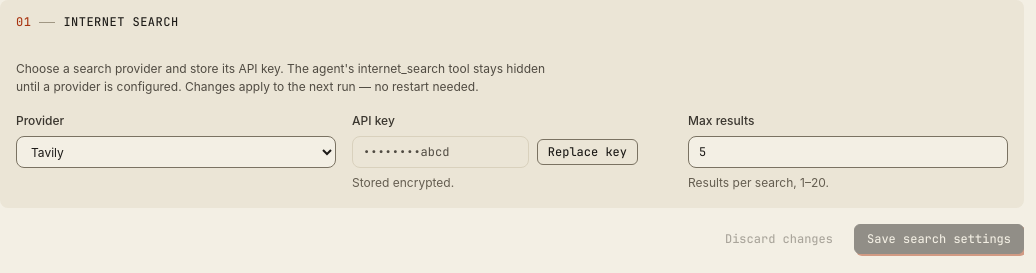
Test: SearchSettings › restores the mask when a replacement is cancelled
The width and height of the screenshot is (1036, 273).
Click the button "Replace key": x=587, y=152 x1=537 y1=139 x2=638 y2=165
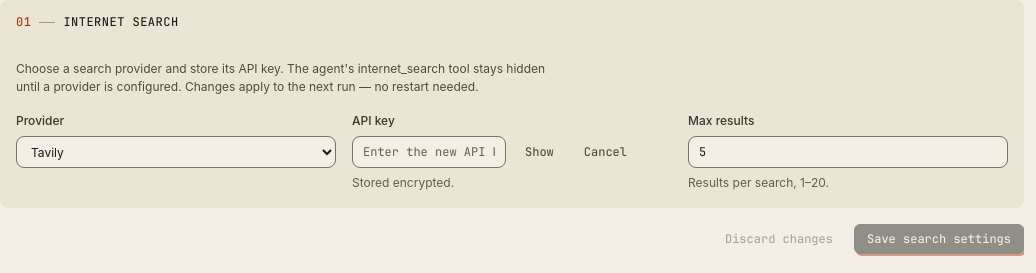
In the password field labelled "API key": x=429, y=152 x1=352 y1=136 x2=506 y2=168, type "typed-but-abandoned"
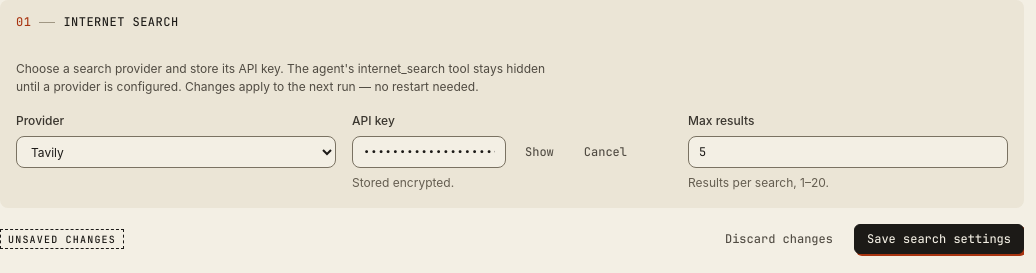
Click the button "Cancel": x=605, y=152 x1=573 y1=139 x2=638 y2=165
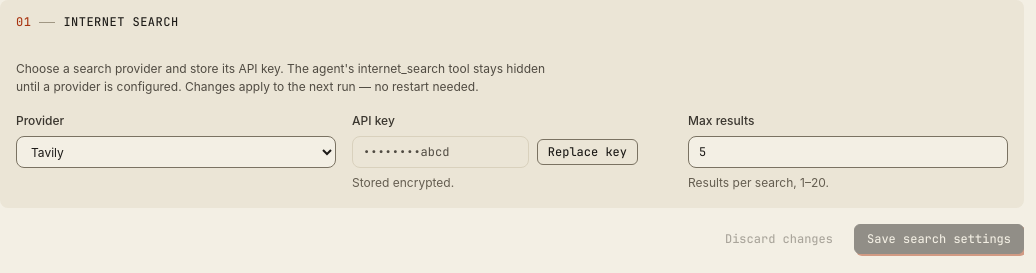
Now the text with test id "key-mask" reads "••••••••abcd", box x1=363 y1=144 x2=449 y2=160
